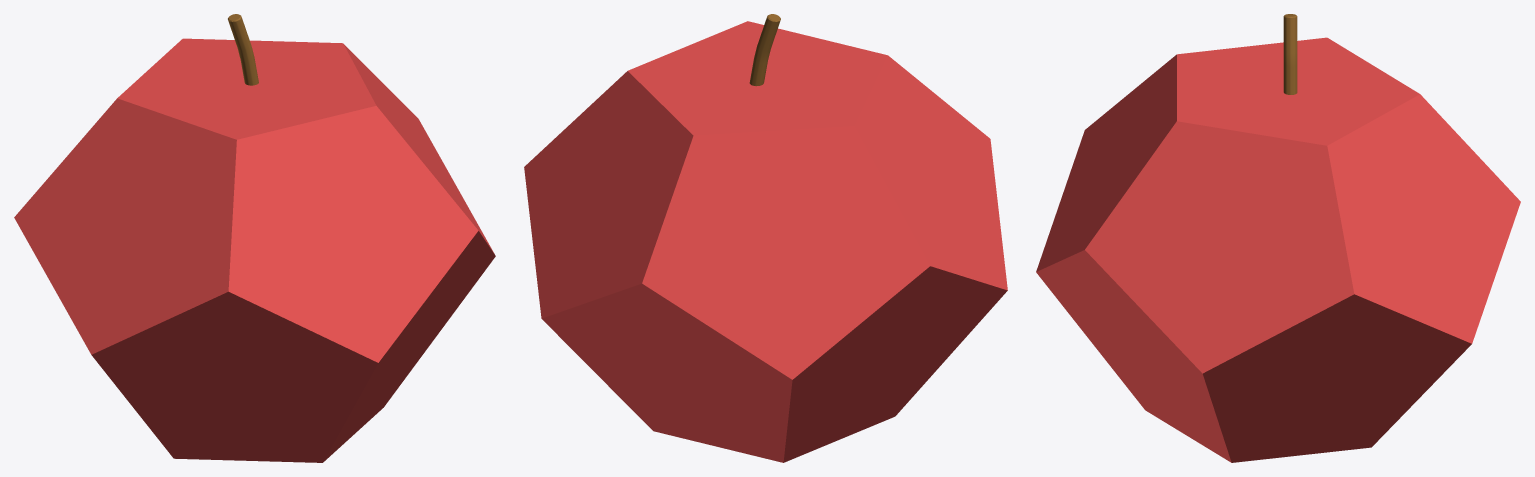
Rendered from Apple.fbx.
3 renders of one model, left to right at view 1: azimuth 30°, elevation 25°; view 2: azimuth 150°, elevation 25°; view 3: azimuth 270°, elevation 25°, orthographic. The views are drawn at different scales.
Parts seen in each view (by area): view 1: polySurface2; view 2: polySurface2; view 3: polySurface2.
Boxes of the visible parts, bbox=[...] form: polySurface2: bbox=[14, 14, 495, 462]; polySurface2: bbox=[524, 14, 1007, 462]; polySurface2: bbox=[1036, 14, 1520, 462].
Bounding box in the file's own units: 1.95 × 1.85 × 2.06.
1 material, 1 textured.
